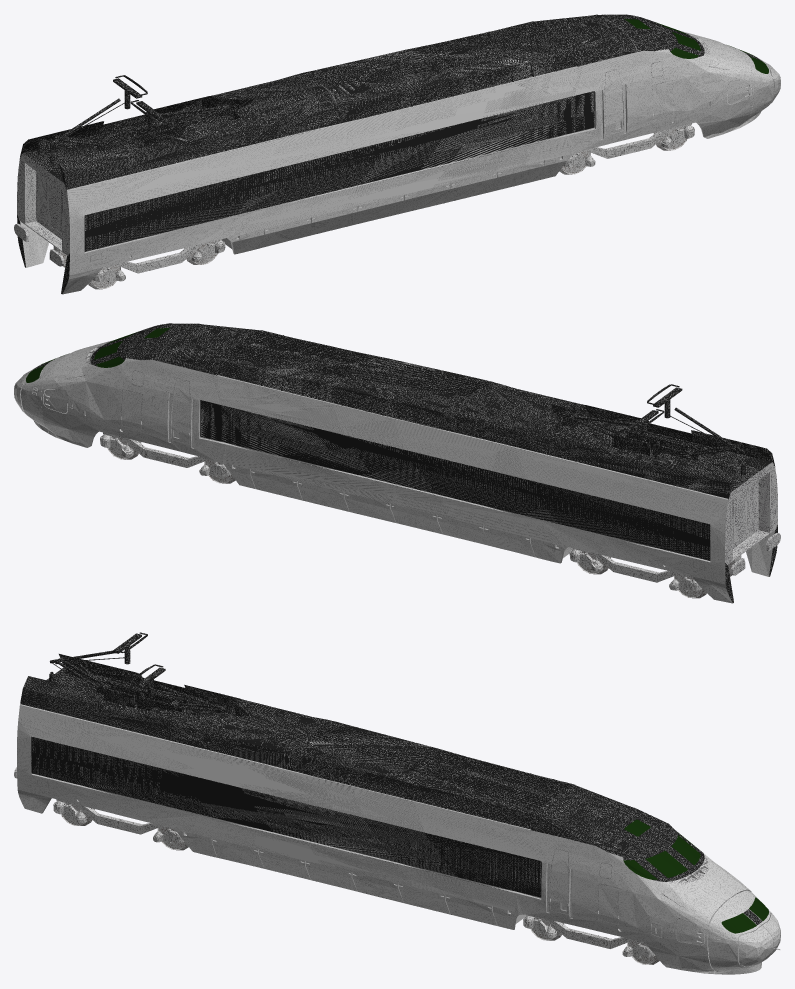
The picture shows the model from 3 angles, top to bottom: view 1: azimuth 30°, elevation 25°; view 2: azimuth 150°, elevation 25°; view 3: azimuth 330°, elevation 25°; orthographic projection.
Parts seen in each view (by area): view 1: mesh84.002_mesh84-geometry, mesh20.002_mesh20-geometry, mesh200.002_mesh200-geometry, mesh198.002_mesh198-geometry, mesh85.002_mesh85-geometry, mesh123.002_mesh123-geometry, mesh201.002_mesh201-geometry, mesh199.002_mesh199-geometry, mesh100.002_mesh100-geometry, mesh83.002_mesh83-geometry, mesh72.002_mesh72-geometry, mesh71.002_mesh71-geometry (+6 smaller); view 2: mesh84.002_mesh84-geometry, mesh21.002_mesh21-geometry, mesh200.002_mesh200-geometry, mesh198.002_mesh198-geometry, mesh102.002_mesh102-geometry, mesh123.002_mesh123-geometry, mesh201.002_mesh201-geometry, mesh199.002_mesh199-geometry, mesh115.002_mesh115-geometry, mesh83.002_mesh83-geometry, mesh73.002_mesh73-geometry, mesh70.002_mesh70-geometry (+5 smaller); view 3: mesh84.002_mesh84-geometry, mesh20.002_mesh20-geometry, mesh200.002_mesh200-geometry, mesh198.002_mesh198-geometry, mesh85.002_mesh85-geometry, mesh201.002_mesh201-geometry, mesh199.002_mesh199-geometry, mesh83.002_mesh83-geometry, mesh80.002_mesh80-geometry, mesh101.002_mesh101-geometry, mesh100.002_mesh100-geometry, mesh72.002_mesh72-geometry (+4 smaller).
Boxes of the visible parts, x1,y1,x2,y2 form: mesh84.002_mesh84-geometry: (17, 17, 753, 293); mesh20.002_mesh20-geometry: (84, 91, 594, 251); mesh200.002_mesh200-geometry: (20, 21, 578, 190); mesh198.002_mesh198-geometry: (20, 73, 337, 189); mesh85.002_mesh85-geometry: (230, 154, 572, 254); mesh123.002_mesh123-geometry: (17, 153, 69, 255); mesh201.002_mesh201-geometry: (535, 15, 636, 66); mesh199.002_mesh199-geometry: (594, 14, 671, 51); mesh100.002_mesh100-geometry: (605, 69, 623, 134); mesh83.002_mesh83-geometry: (722, 44, 773, 119); mesh72.002_mesh72-geometry: (578, 123, 691, 158); mesh71.002_mesh71-geometry: (102, 239, 222, 273); mesh84.002_mesh84-geometry: (41, 326, 777, 602); mesh21.002_mesh21-geometry: (200, 400, 710, 560); mesh200.002_mesh200-geometry: (216, 330, 774, 499); mesh198.002_mesh198-geometry: (458, 382, 774, 498); mesh102.002_mesh102-geometry: (222, 463, 564, 563); mesh123.002_mesh123-geometry: (725, 462, 777, 564); mesh201.002_mesh201-geometry: (158, 324, 259, 375); mesh199.002_mesh199-geometry: (123, 323, 199, 360); mesh115.002_mesh115-geometry: (171, 378, 189, 443); mesh83.002_mesh83-geometry: (21, 353, 72, 428); mesh73.002_mesh73-geometry: (103, 432, 216, 467); mesh70.002_mesh70-geometry: (572, 548, 692, 582); mesh84.002_mesh84-geometry: (17, 705, 751, 973); mesh20.002_mesh20-geometry: (31, 736, 541, 897); mesh200.002_mesh200-geometry: (20, 688, 574, 829); mesh198.002_mesh198-geometry: (20, 654, 331, 754); mesh85.002_mesh85-geometry: (176, 831, 517, 929); mesh201.002_mesh201-geometry: (532, 785, 632, 844); mesh199.002_mesh199-geometry: (591, 807, 671, 857); mesh83.002_mesh83-geometry: (708, 890, 771, 970); mesh80.002_mesh80-geometry: (623, 825, 704, 881); mesh101.002_mesh101-geometry: (738, 925, 773, 966); mesh100.002_mesh100-geometry: (550, 849, 568, 914); mesh72.002_mesh72-geometry: (526, 914, 644, 948).
Size of the model in its own units: 0.9647 by 0.2314 by 0.1256.
